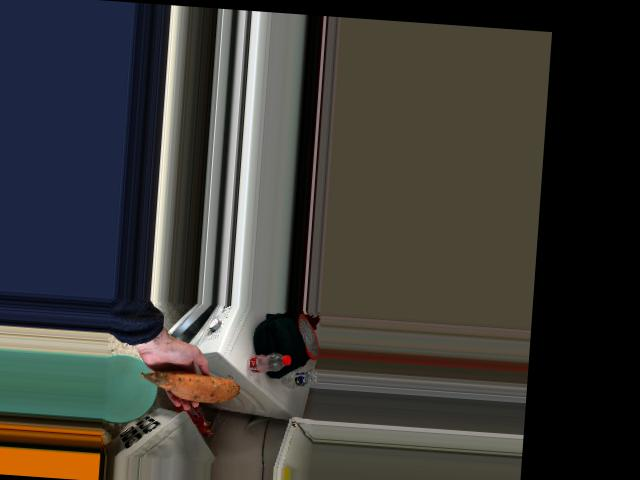sweet_potato: (145, 366, 232, 398)
